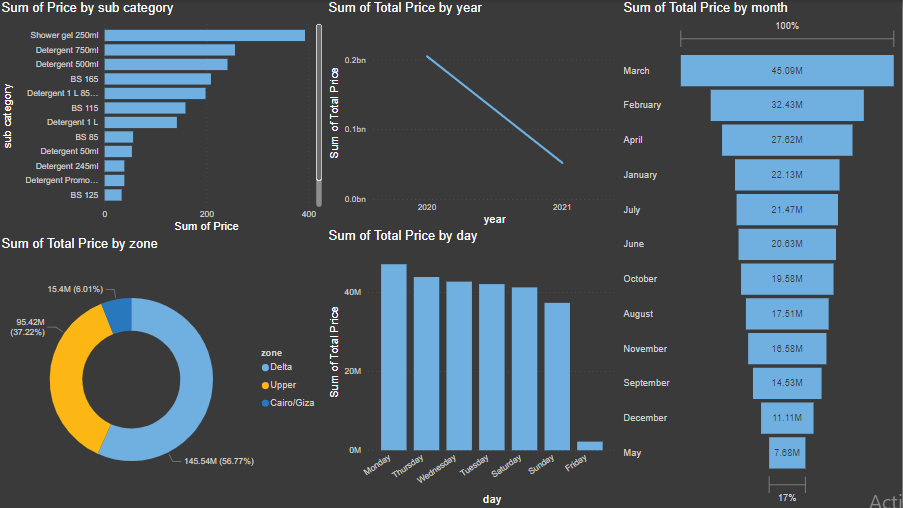

Layout of this report page (visuals, bound fields, positions):
{"tool":"powerbi","page":{"name":"Page 2","canvas":[1280,720],"ordinal":1},"visuals":[{"type":"barChart","fields":{"Category":["subcategory price.sub category"],"Y":["Sum(subcategory price.Sum of Price)"]},"box":[0,0,463.6,334.3],"z":0},{"type":"donutChart","fields":{"Category":["sales by zone.zone"],"Y":["Sum(sales by zone.Sum of Total Price)"]},"box":[0,334.3,463.6,386.4],"z":1000},{"type":"lineChart","fields":{"Category":["sales by year.year"],"Y":["Sum(sales by year.Sum of Total Price)"]},"box":[463.6,0,418.3,324.2],"z":2000},{"type":"funnel","fields":{"Category":["sales by month.month"],"Y":["Sum(sales by month.Sum of Total Price)"]},"box":[881.9,0,398.1,720.6],"z":3000},{"type":"columnChart","fields":{"Category":["sales by day.day"],"Y":["Sum(sales by day.Sum of Total Price)"]},"box":[463.6,322.5,418.3,398.1],"z":4000}]}

Visuals, with their boxes in screenshot pixels (x1, y1, x2, y2), scaled from the page's 1280x720 canvas onto the 903x508 screenshot:
barChart - subcategory price.sub category x Sum(subcategory price.Sum of Price): box(0, 0, 327, 236)
donutChart - sales by zone.zone x Sum(sales by zone.Sum of Total Price): box(0, 236, 327, 507)
lineChart - sales by year.year x Sum(sales by year.Sum of Total Price): box(327, 0, 622, 229)
funnel - sales by month.month x Sum(sales by month.Sum of Total Price): box(622, 0, 902, 507)
columnChart - sales by day.day x Sum(sales by day.Sum of Total Price): box(327, 228, 622, 507)
